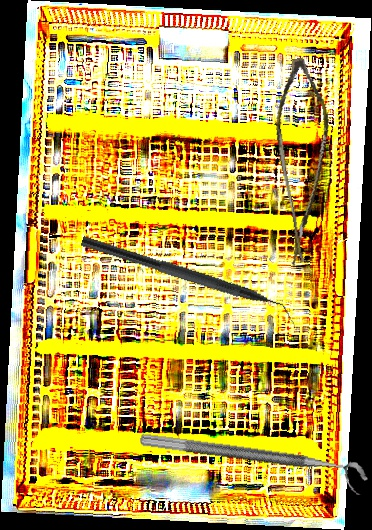Chopper: (76, 235, 302, 328)
Fixation Ring: (136, 432, 371, 496)
Micro Scissor: (253, 54, 355, 268)
